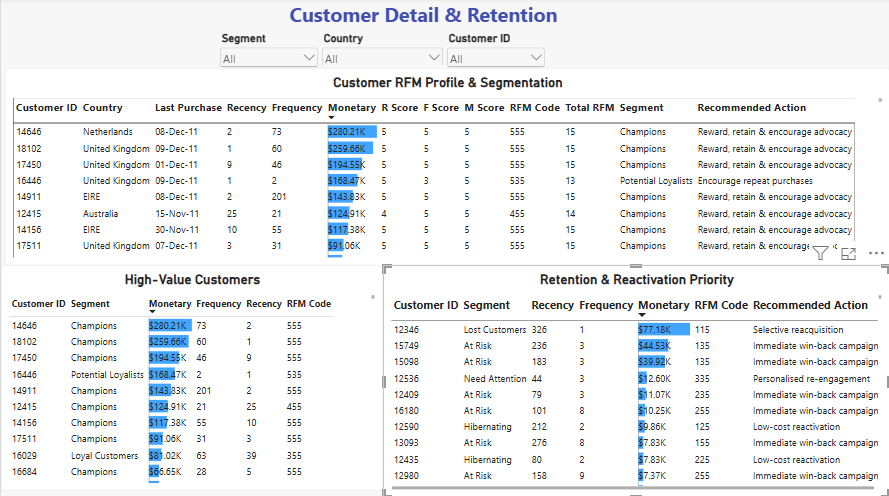

The page's visual inventory and layout, read from the dashboard file:
{"tool":"powerbi","page":{"name":"Customer Detail","canvas":[1920,1080],"ordinal":2},"visuals":[{"type":"tableEx","title":"Customer RFM Profile & Segmentation","fields":{"Values":["RFM Customers.customer_id","RFM Customers.home_country","RFM Customers.last_purchase_date","RFM Customers.recency","RFM Customers.frequency","RFM Customers.monetary","RFM Customers.r_score","RFM Customers.f_score","RFM Customers.m_score","RFM Customers.rfm_code","RFM Customers.total_rfm_score","RFM Customers.customer_segment"]},"box":[8.6,151.2,1911.6,425.5],"z":0},{"type":"slicer","fields":{"Values":["RFM Customers.customer_segment"]},"box":[468.7,73.4,220.3,77.8],"z":1000},{"type":"slicer","fields":{"Values":["RFM Customers.home_country"]},"box":[689,73.4,270,71.3],"z":2000},{"type":"tableEx","title":"High-Value Customers","fields":{"Values":["RFM Customers.customer_id","RFM Customers.customer_segment","RFM Customers.monetary","RFM Customers.frequency","RFM Customers.recency","RFM Customers.rfm_code"]},"box":[0,576.7,825.1,488.2],"z":3000},{"type":"tableEx","title":"Retention & Reactivation Priority","fields":{"Values":["RFM Customers.customer_id","RFM Customers.customer_segment","RFM Customers.recency","RFM Customers.frequency","RFM Customers.monetary","RFM Customers.rfm_code","RFM Customers.Recommended Action"]},"box":[825.1,576.7,1095.1,503.3],"z":4000},{"type":"textbox","box":[99.4,6.5,1626.5,67],"z":5000},{"type":"slicer","fields":{"Values":["RFM Customers.customer_id"]},"box":[959,73.4,220.3,77.8],"z":6000}]}

Visuals, with their boxes in screenshot pixels (x1, y1, x2, y2), scaled from the page's 1920x1080 canvas onto the 889x496 screenshot:
"Customer RFM Profile & Segmentation" tableEx: detection(4, 69, 888, 265)
slicer - RFM Customers.customer_segment: detection(217, 34, 319, 69)
slicer - RFM Customers.home_country: detection(319, 34, 444, 66)
"High-Value Customers" tableEx: detection(0, 265, 382, 489)
"Retention & Reactivation Priority" tableEx: detection(382, 265, 888, 495)
textbox: detection(46, 3, 799, 34)
slicer - RFM Customers.customer_id: detection(444, 34, 546, 69)
